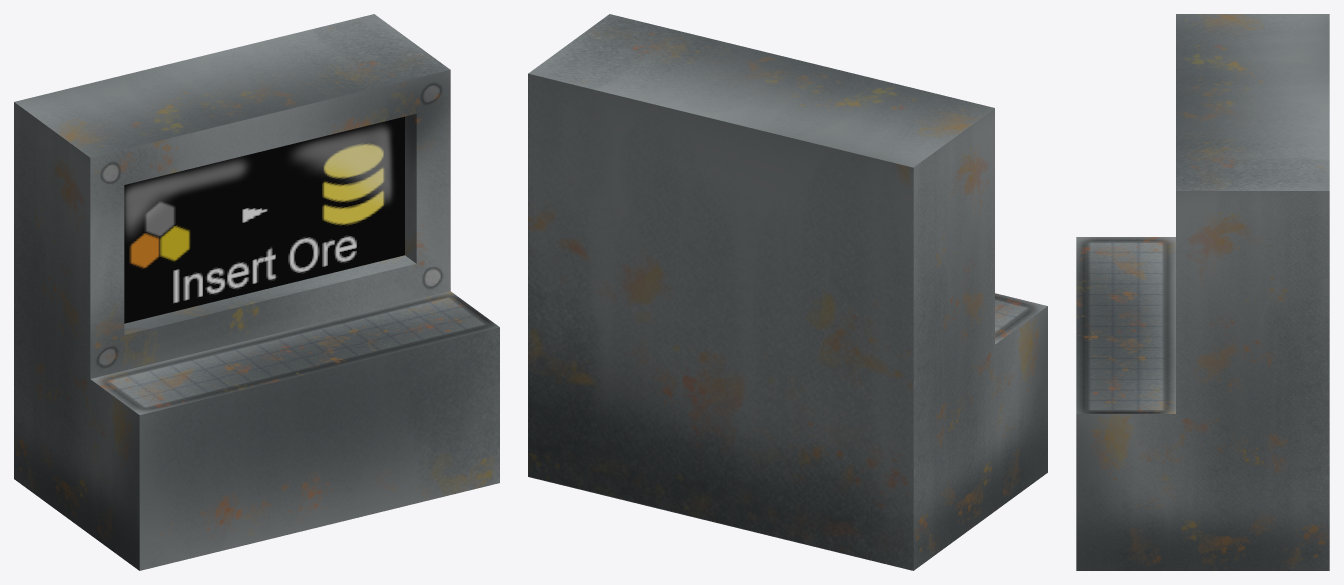
File: TradeComputer.fbx
3 views of the same model, side by side, from view 1: azimuth 30°, elevation 25°; view 2: azimuth 150°, elevation 25°; view 3: azimuth 270°, elevation 25° (orthographic). The views are drawn at different scales.
Parts seen in each view (by area): view 1: TradeComp; view 2: TradeComp; view 3: TradeComp.
Part boxes in pixels (x1=…): TradeComp: x1=14, y1=14, x2=499, y2=570; TradeComp: x1=528, y1=14, x2=1047, y2=570; TradeComp: x1=1076, y1=14, x2=1329, y2=570.
Size of the model in its own units: 491 by 491 by 297.
